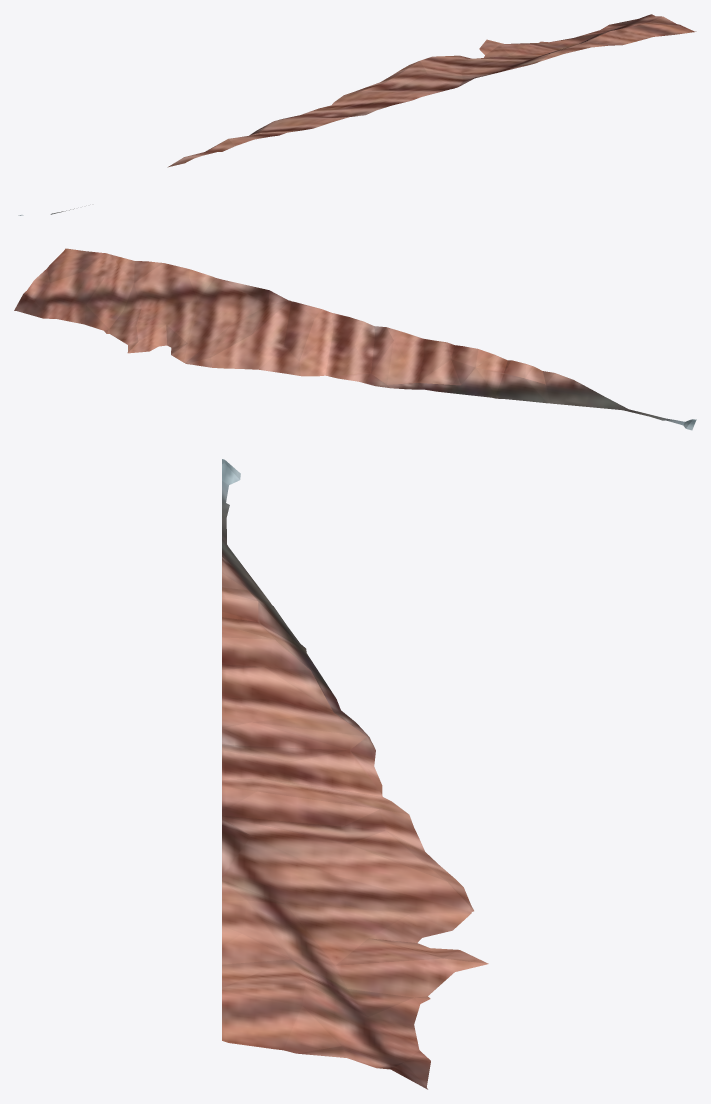
The picture shows the model from 3 angles, top to bottom: view 1: azimuth 30°, elevation 25°; view 2: azimuth 150°, elevation 25°; view 3: azimuth 270°, elevation 25°; orthographic projection. The views are drawn at different scales.
Size of the model in its own units: 1.67 by 0.0866 by 0.307.
Materials: 1 (1 with a texture image).
